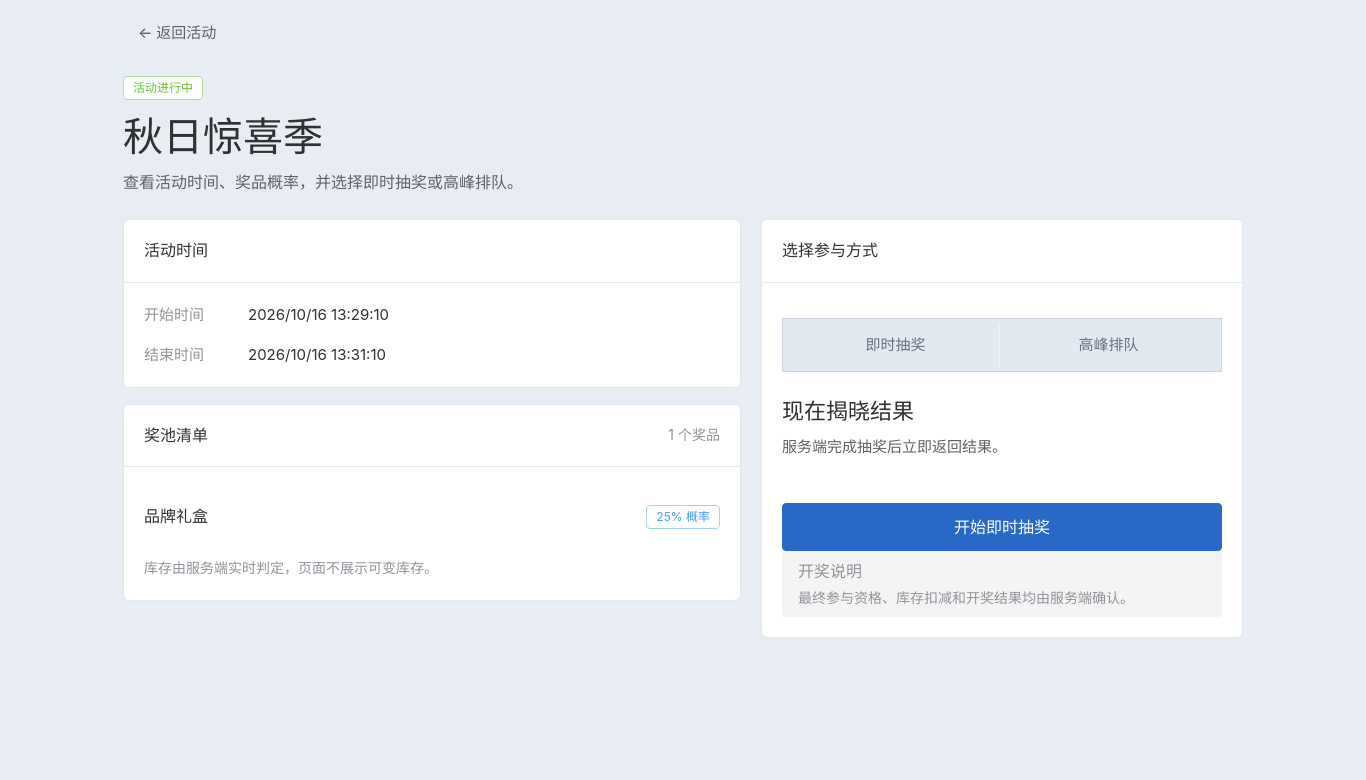
Scenario: user campaign detail and draw › reuses the same request key after an uncertain result
Click the button with class "draw-button" at [1002, 527], box [782,503,1222,551]
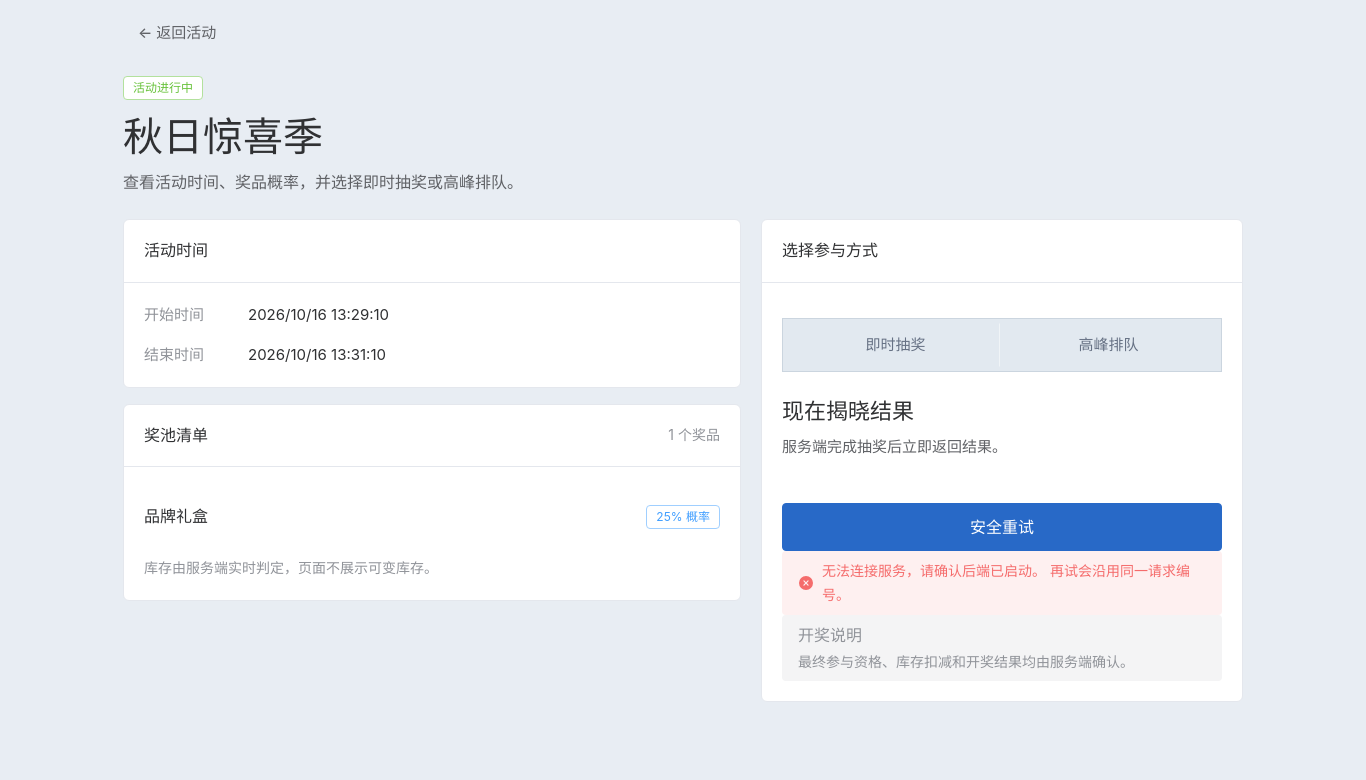
Expected: the message "无法连接服务，请确认后端已启动。 再试会沿用同一请求编号。" is shown, [782,551,1222,615]
Click the button with class "draw-button" at [1002, 527], box [782,503,1222,551]
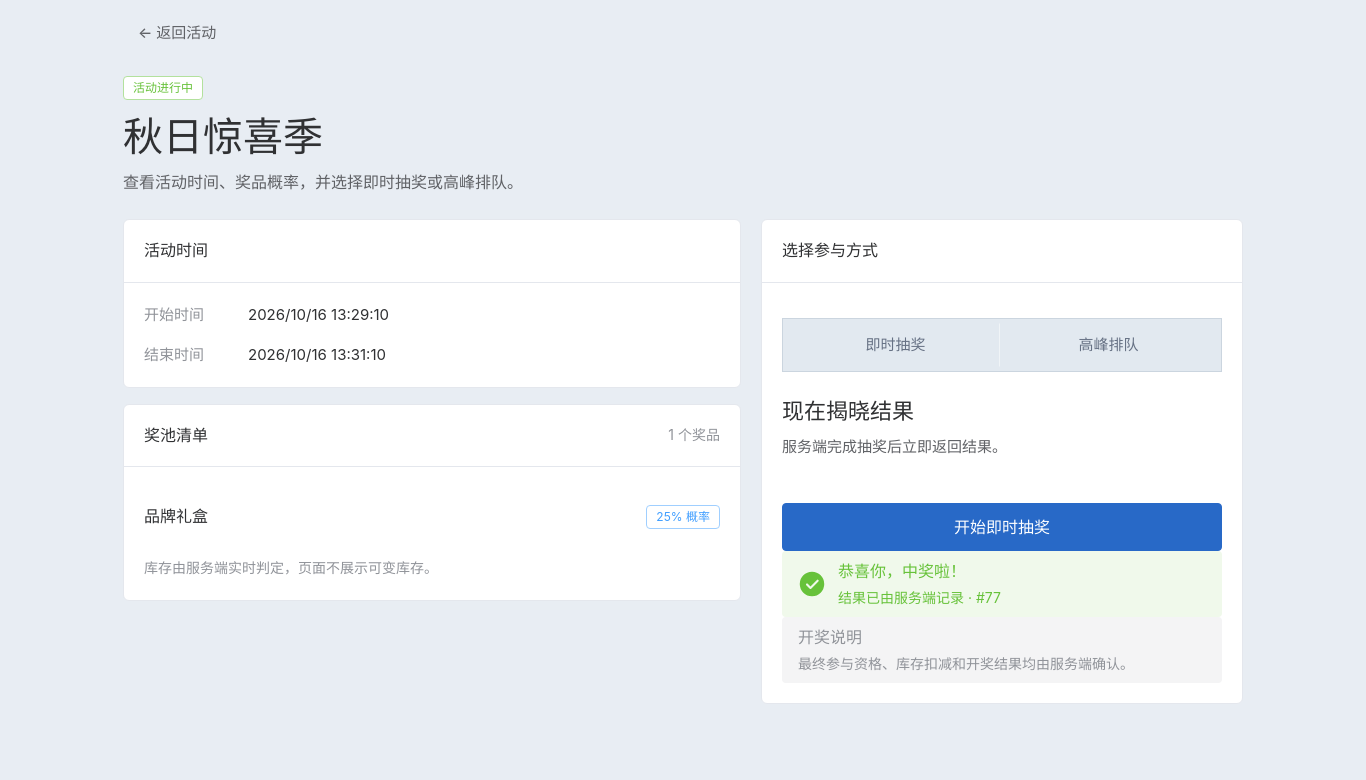
Expected: the message "恭喜你，中奖啦！ 结果已由服务端记录 · #77" is shown, [782,551,1222,617]
